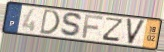4: (21, 8, 38, 33)
D: (38, 8, 61, 36)
F: (81, 14, 104, 40)
S: (59, 12, 84, 39)
V: (125, 18, 147, 46)
Z: (100, 17, 125, 43)
